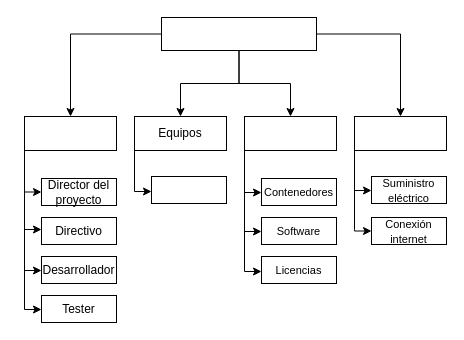
Image size: 464x340. Some labels were removed from this diagram. Here are the shapes that lost their labels. From the top down, the centre of each, then its label:
the point at 238,33: Escapadas a tu medida
the point at 70,133: RRHH
the point at 290,133: Materiales
the point at 400,133: Suministros
the point at 188,190: Laptop
